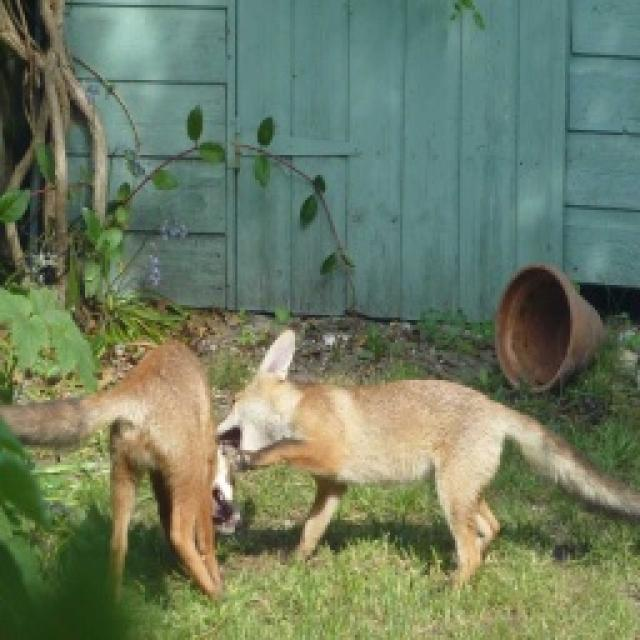Fox: (224, 335, 640, 571)
